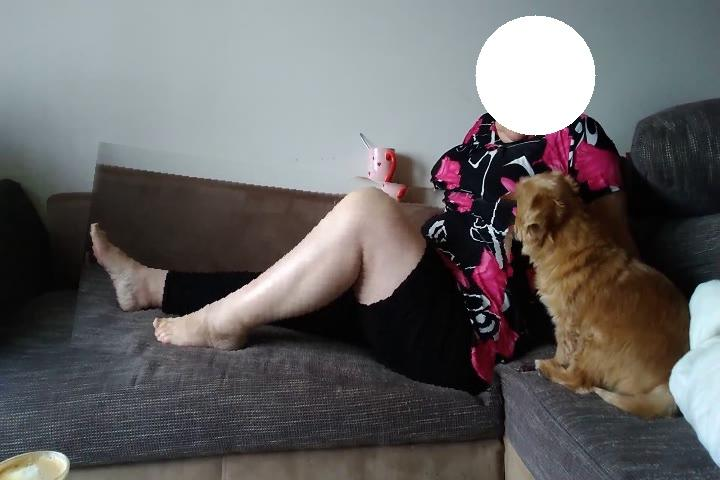lower_body: (77, 157, 512, 393)
